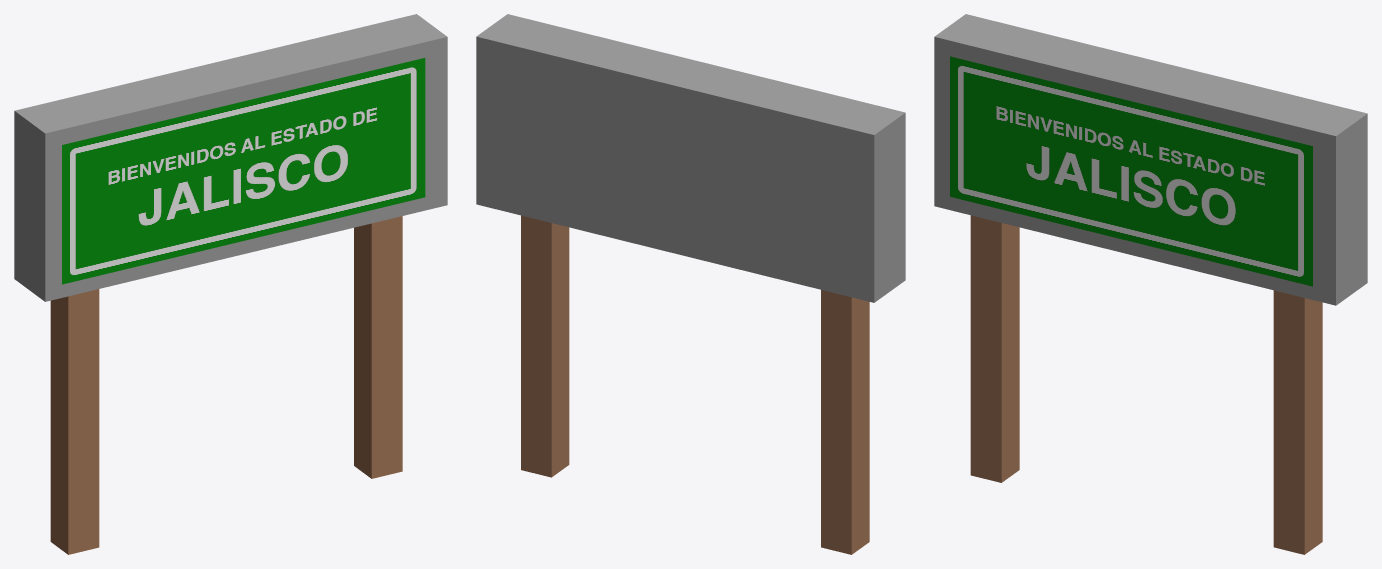
File: letrero1.gltf
3 renders of one model, left to right at view 1: azimuth 30°, elevation 25°; view 2: azimuth 150°, elevation 25°; view 3: azimuth 330°, elevation 25°, orthographic.
Visible parts, largest first — view 1: Plane.024, Cube.017, Cube.016, Cube.015; view 2: Cube.017, Cube.016, Cube.015; view 3: Plane.024, Cube.017, Cube.016, Cube.015.
Part boxes in pixels (x1,y1,x2,y2): Plane.024: [62, 58, 425, 284]; Cube.017: [14, 14, 447, 301]; Cube.016: [50, 289, 99, 554]; Cube.015: [354, 216, 402, 478]; Cube.017: [476, 14, 905, 302]; Cube.016: [821, 290, 869, 554]; Cube.015: [521, 215, 569, 477]; Plane.024: [950, 56, 1312, 286]; Cube.017: [934, 14, 1367, 305]; Cube.016: [970, 215, 1019, 482]; Cube.015: [1273, 290, 1322, 554].
Size of the model in its own units: 6.49 by 6.7 by 0.9244.
Materials: 3 (1 with a texture image).
